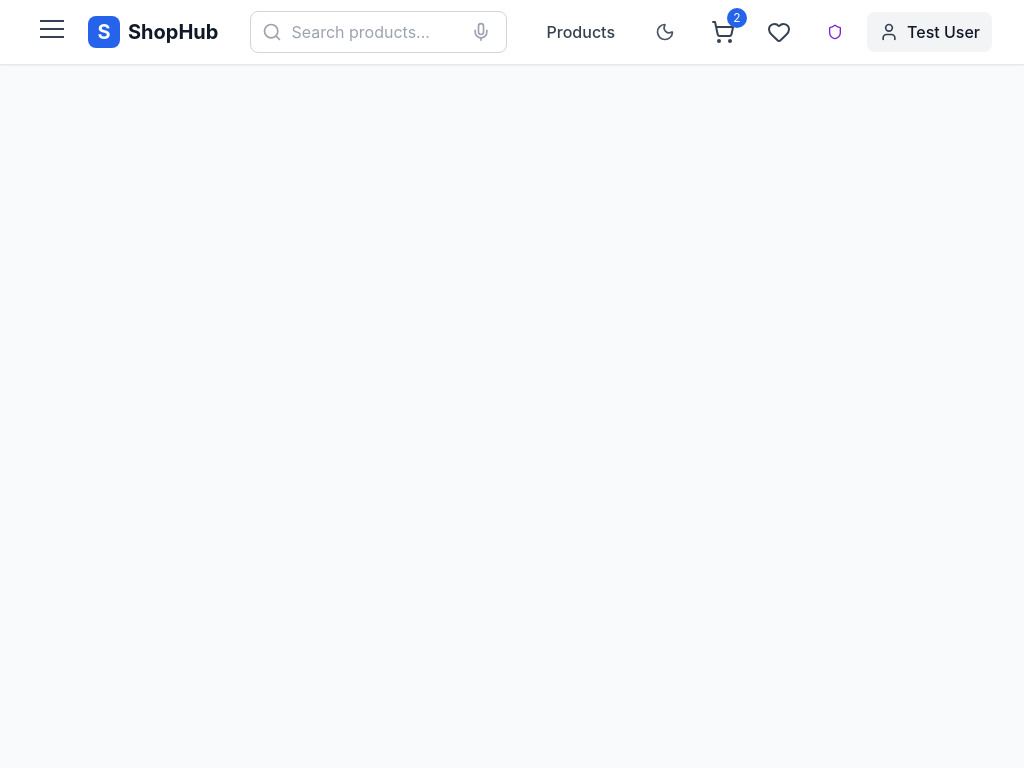
Test: Header › shows wishlist and orders links for logged-in user
Open the user menu
Click the button named "Open user menu": x=52, y=32 [32, 12, 72, 52]
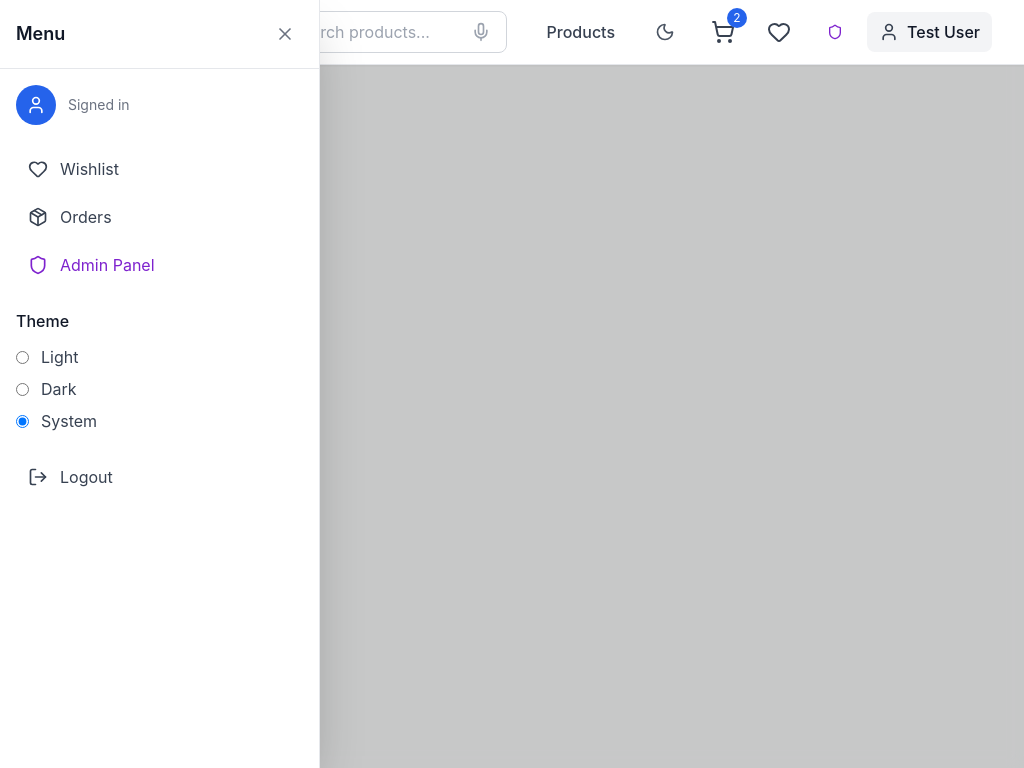
Expected: the link named "Wishlist" is shown, [767, 20, 791, 44]
Now the text "Orders" is shown, box [60, 205, 112, 229]
